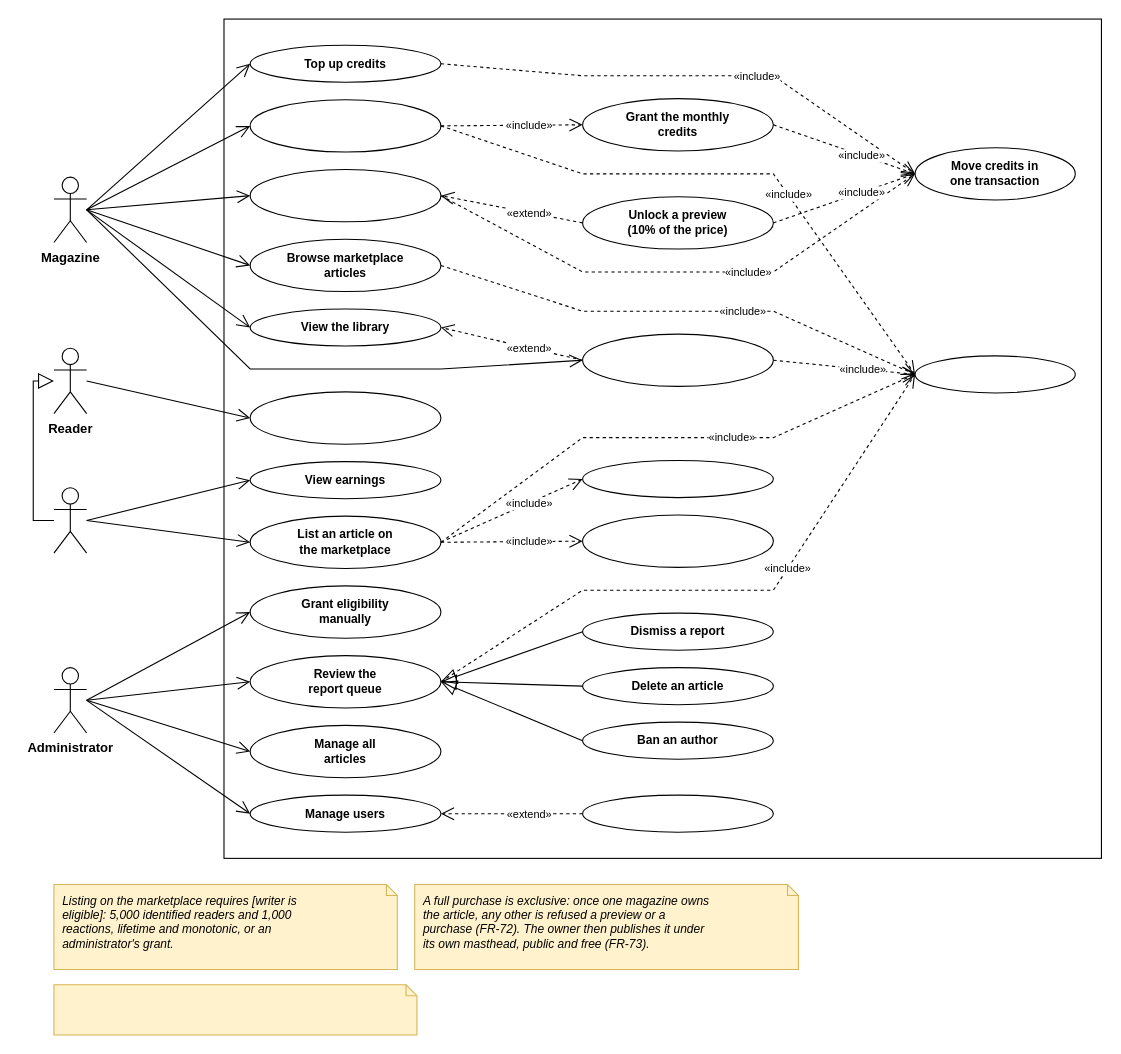
Image size: 1121x1054. Some labels were removed from this diagram. The shapes that lost their labels are listed below. From the top down, each one's box as (x1, y1, x2, y2) in pixels, then its label:
(249, 99, 441, 152): Subscribe as a magazine
(249, 168, 441, 222): Purchase an article exclusively
(582, 333, 773, 386): Publish a purchased article
(914, 355, 1075, 393): Sign in
(249, 391, 441, 444): Upgrade to premium
(582, 459, 773, 498): Set a price
(53, 487, 87, 553): Writer
(582, 514, 773, 567): Classify content at publish time
(582, 794, 773, 832): Ban a user
(53, 984, 417, 1035): Browsing, purchasing, the library and publication need [subscription active].
